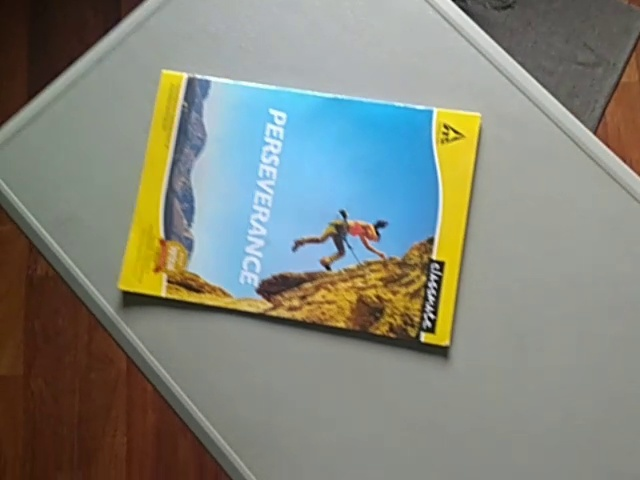Book: (105, 63, 513, 386)
